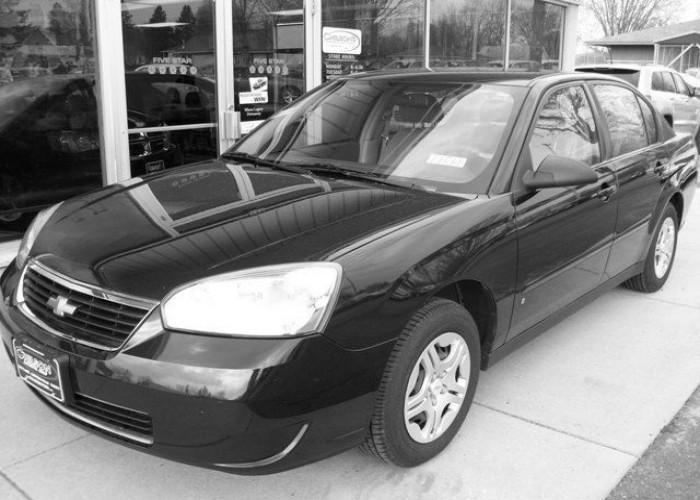car: (1, 66, 700, 480)
